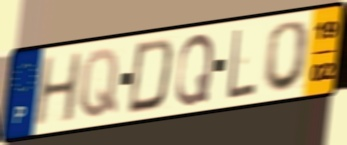D: (125, 35, 177, 116)
H: (32, 49, 84, 129)
L: (226, 26, 258, 102)
O: (261, 18, 314, 94)
Q: (173, 31, 217, 108), (77, 46, 121, 121)
